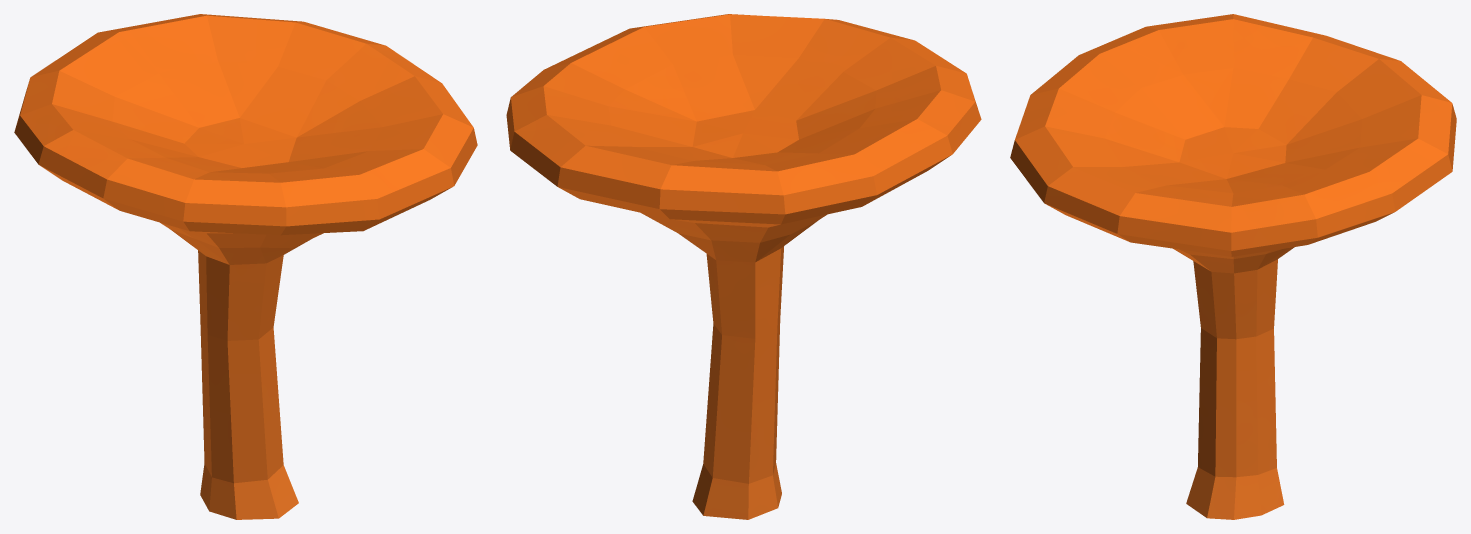
The model's file is mushroom.06.glb.
3 views of the same model, side by side, from view 1: azimuth 30°, elevation 25°; view 2: azimuth 150°, elevation 25°; view 3: azimuth 270°, elevation 25° (orthographic). The views are drawn at different scales.
Parts seen in each view (by area): view 1: Sphere.037; view 2: Sphere.037; view 3: Sphere.037.
Part boxes in pixels (bbox=[...]): Sphere.037: bbox=[14, 14, 477, 519]; Sphere.037: bbox=[506, 14, 981, 519]; Sphere.037: bbox=[1010, 14, 1456, 519].
Size of the model in its own units: 0.1105 by 0.1079 by 0.1093.
Materials: 1 (1 with a texture image).
